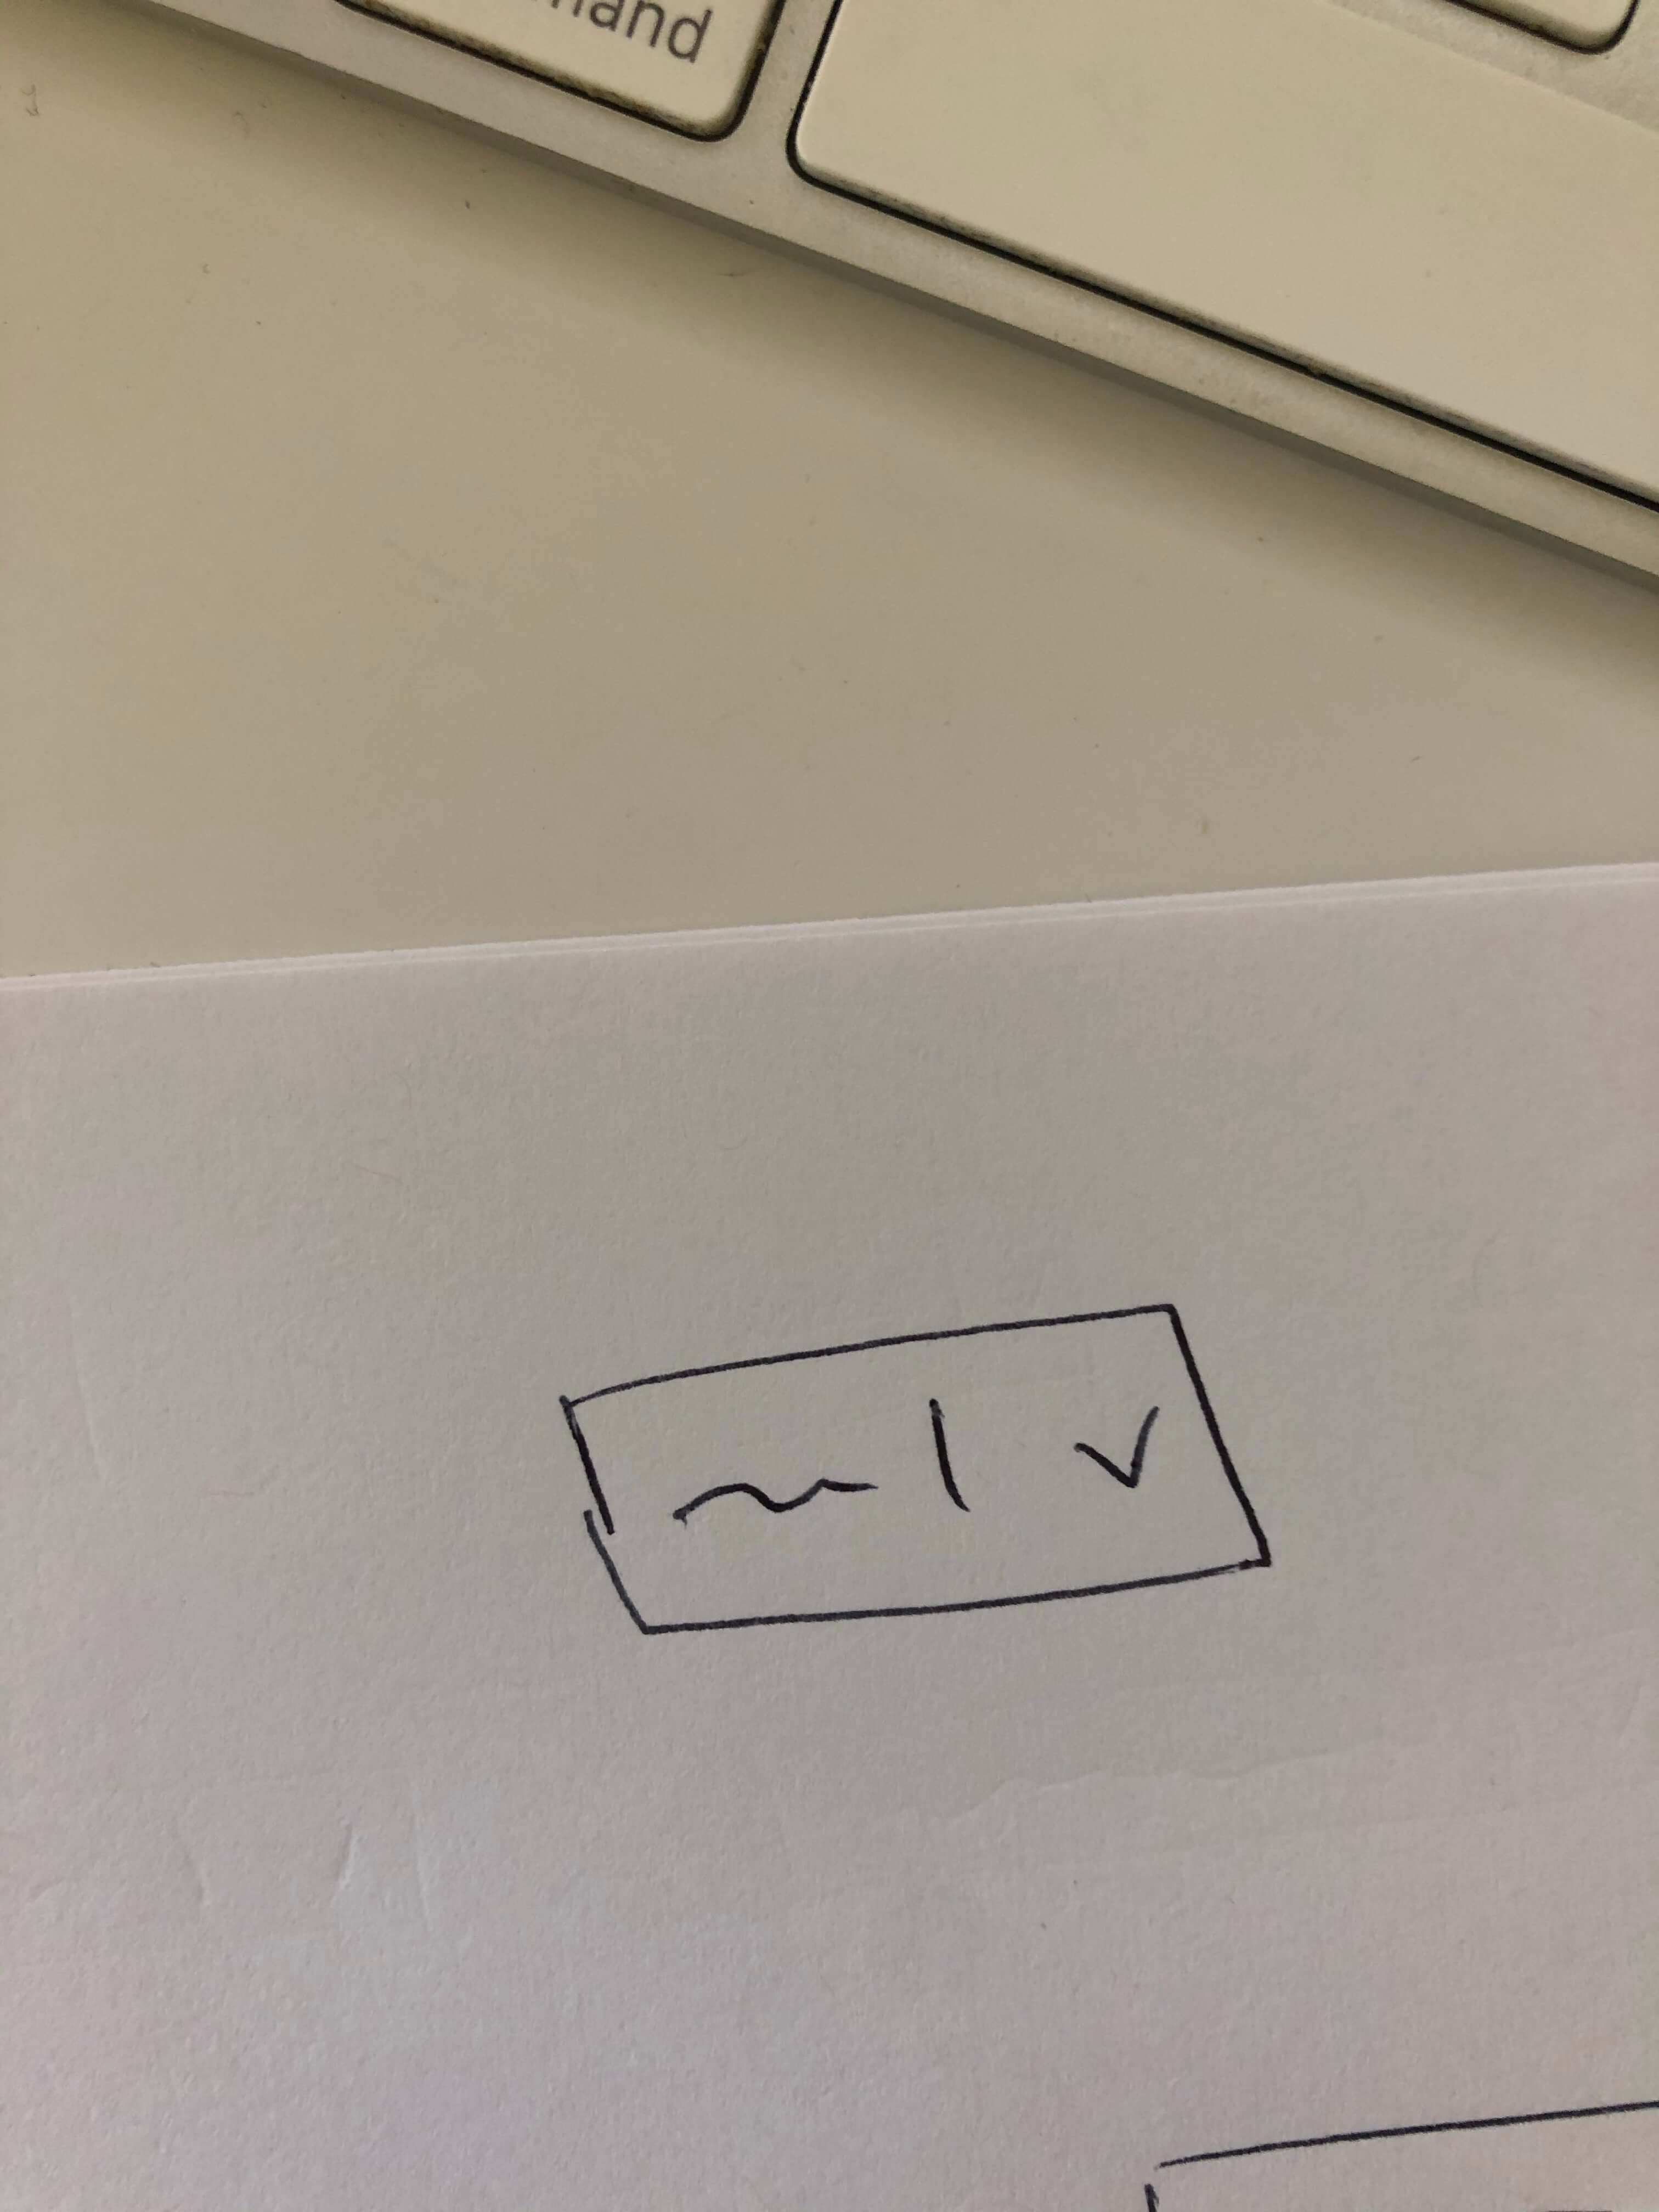split-button: (554, 1277, 1288, 1676)
